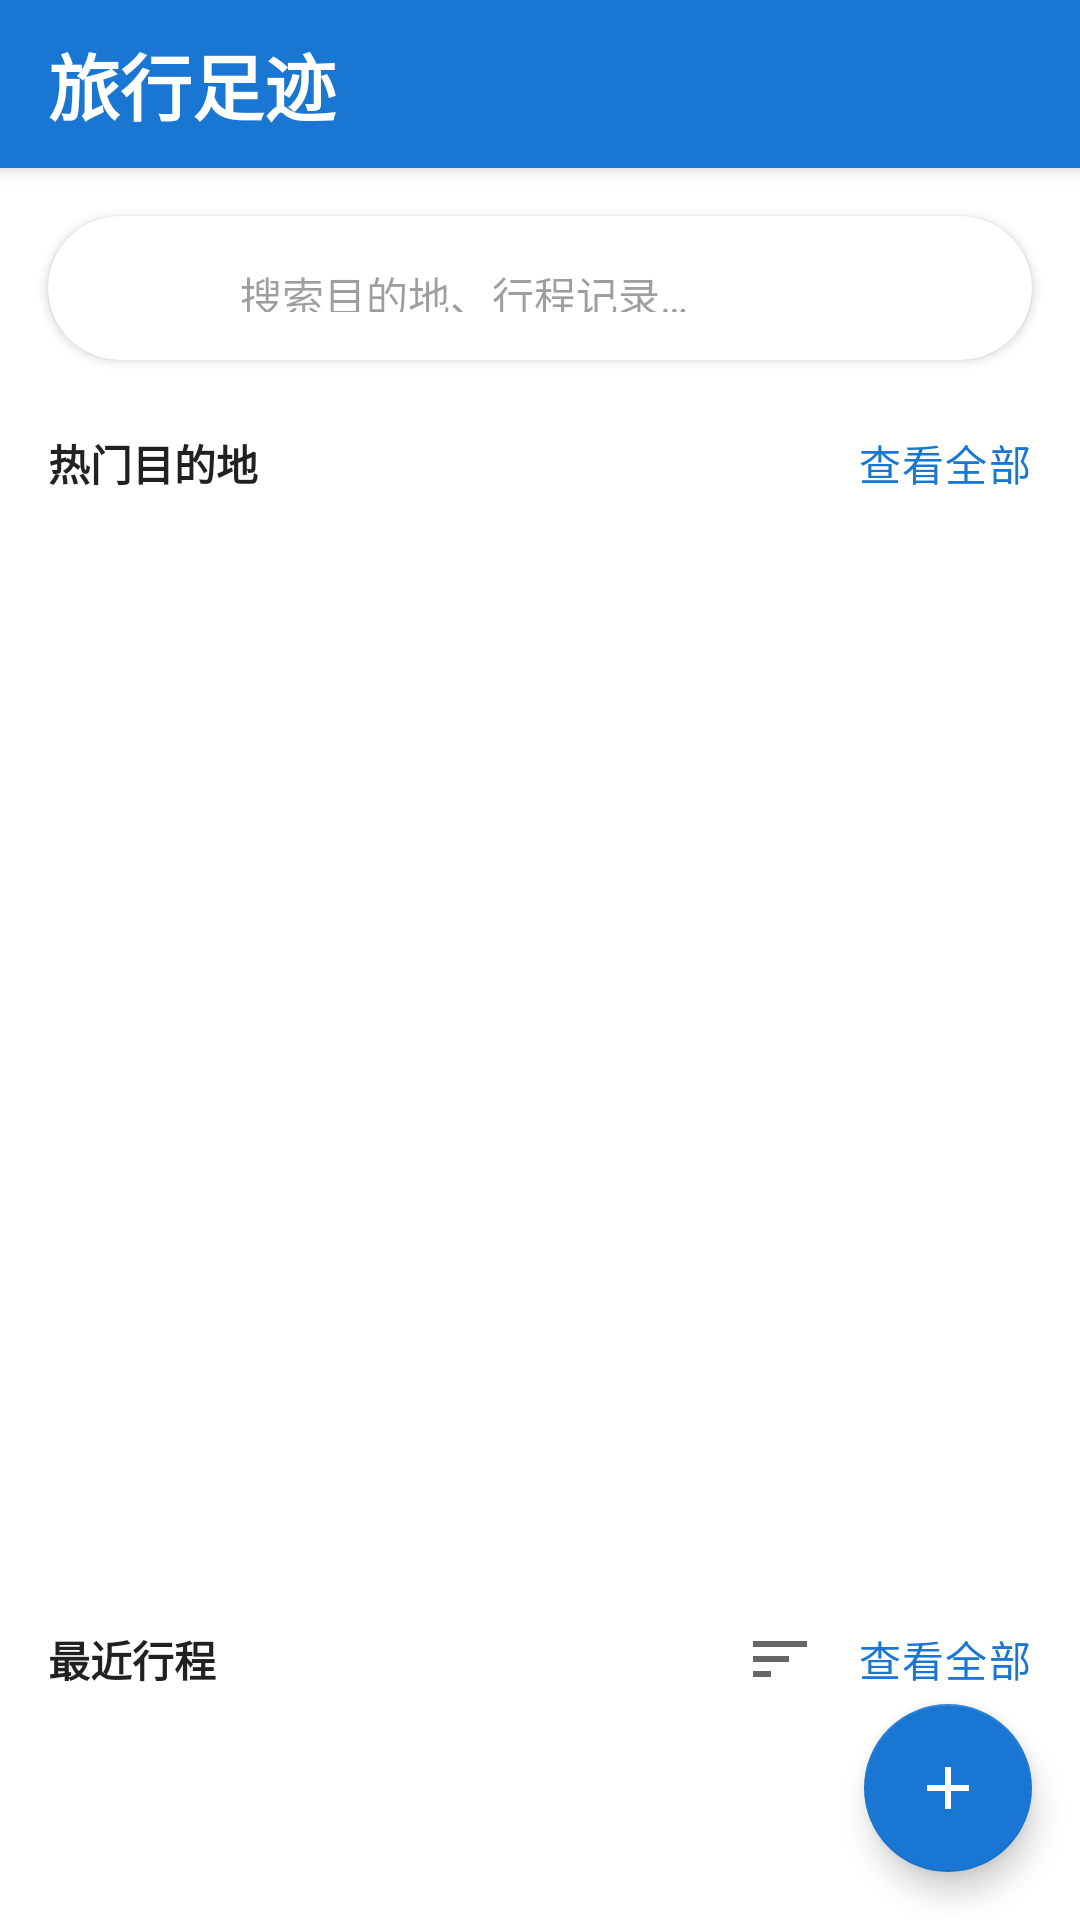

Screen size 1080 × 1920. Icon name, then its box in pixels as (x1, y1, x2, y2):
排序: (753, 1641, 807, 1677)
添加行程: (864, 1704, 1032, 1872)
